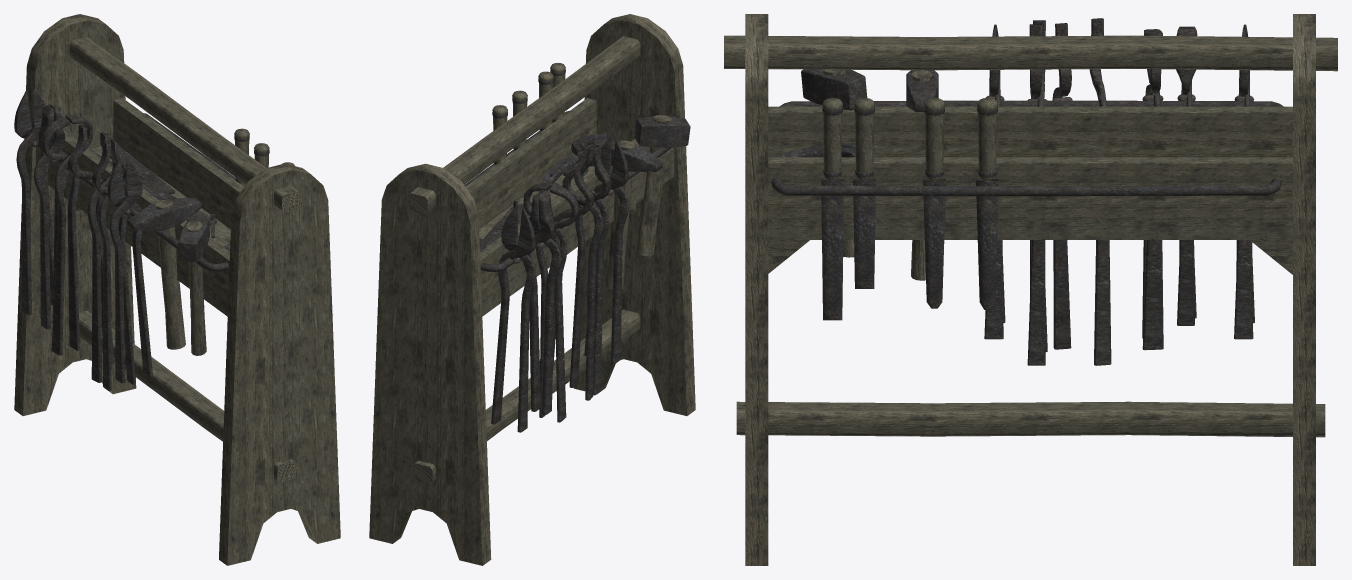
The model's file is toolrack.fbx.
3 views of the same model, side by side, from view 1: azimuth 30°, elevation 25°; view 2: azimuth 150°, elevation 25°; view 3: azimuth 270°, elevation 25° (orthographic). The views are drawn at different scales.
Parts seen in each view (by area): view 1: MBS-ToolCase_5835.Shape; view 2: MBS-ToolCase_5835.Shape; view 3: MBS-ToolCase_5835.Shape.
Boxes of the visible parts, bbox=[...] form: MBS-ToolCase_5835.Shape: bbox=[14, 14, 340, 565]; MBS-ToolCase_5835.Shape: bbox=[369, 14, 695, 565]; MBS-ToolCase_5835.Shape: bbox=[724, 14, 1337, 565].
Size of the model in its own units: 41.31 by 100 by 110.
3 materials, 3 textured.
